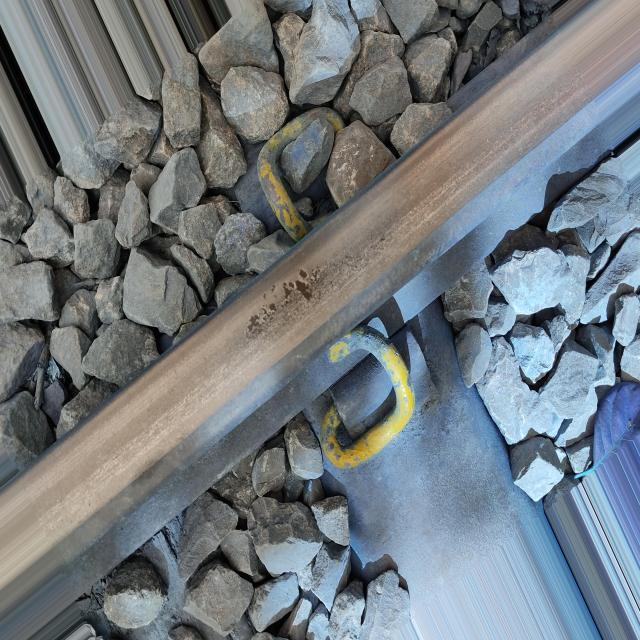Good Fasteners: (320, 325, 435, 468), (234, 107, 344, 241)
